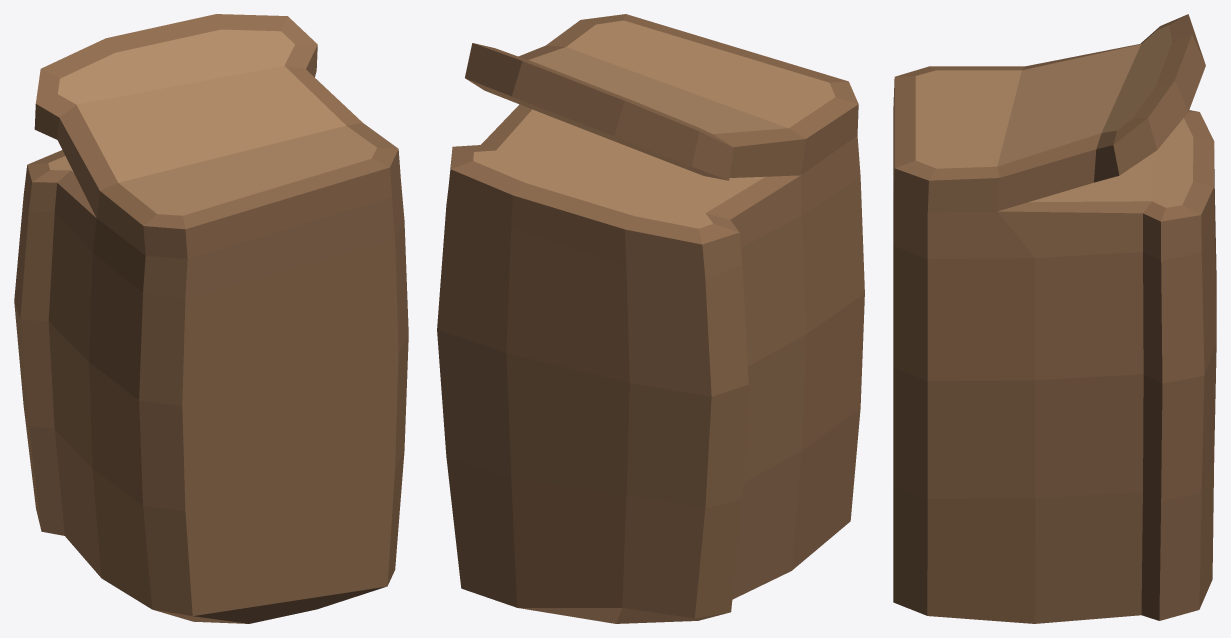
The model's file is BreadLoaf.glb.
3 views of the same model, side by side, from view 1: azimuth 30°, elevation 25°; view 2: azimuth 150°, elevation 25°; view 3: azimuth 270°, elevation 25° (orthographic). The views are drawn at different scales.
Visible parts, largest first — view 1: BreadLoaf; view 2: BreadLoaf; view 3: BreadLoaf.
Boxes of the visible parts, x1,y1,x2,y2 form: BreadLoaf: (14,14,408,623); BreadLoaf: (437,14,864,623); BreadLoaf: (893,14,1216,623).
Size of the model in its own units: 0.1916 by 0.3289 by 0.1833.
